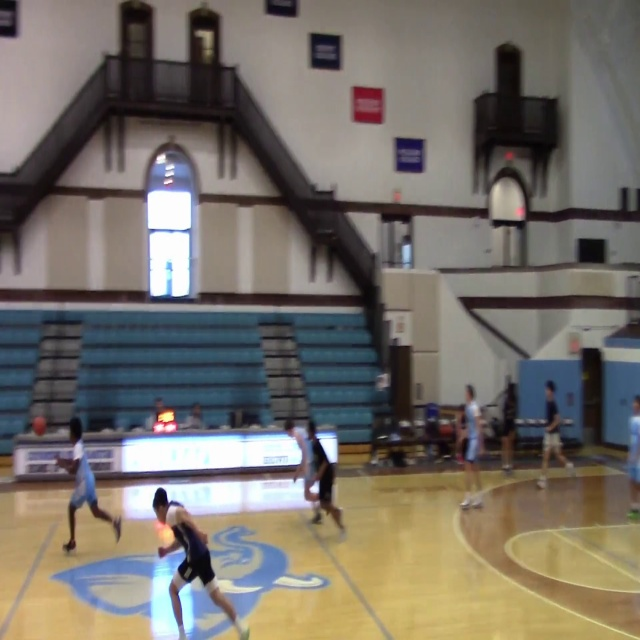Basketball: (166, 506, 184, 526), (32, 416, 47, 436)
